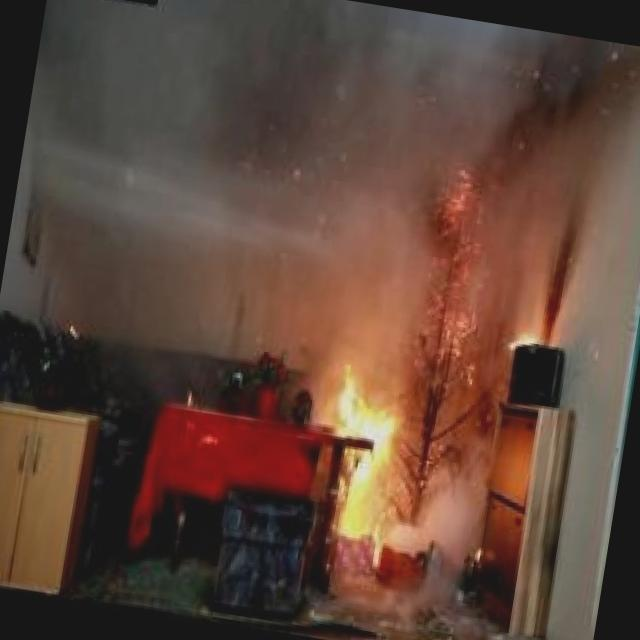fire: (302, 357, 485, 602)
